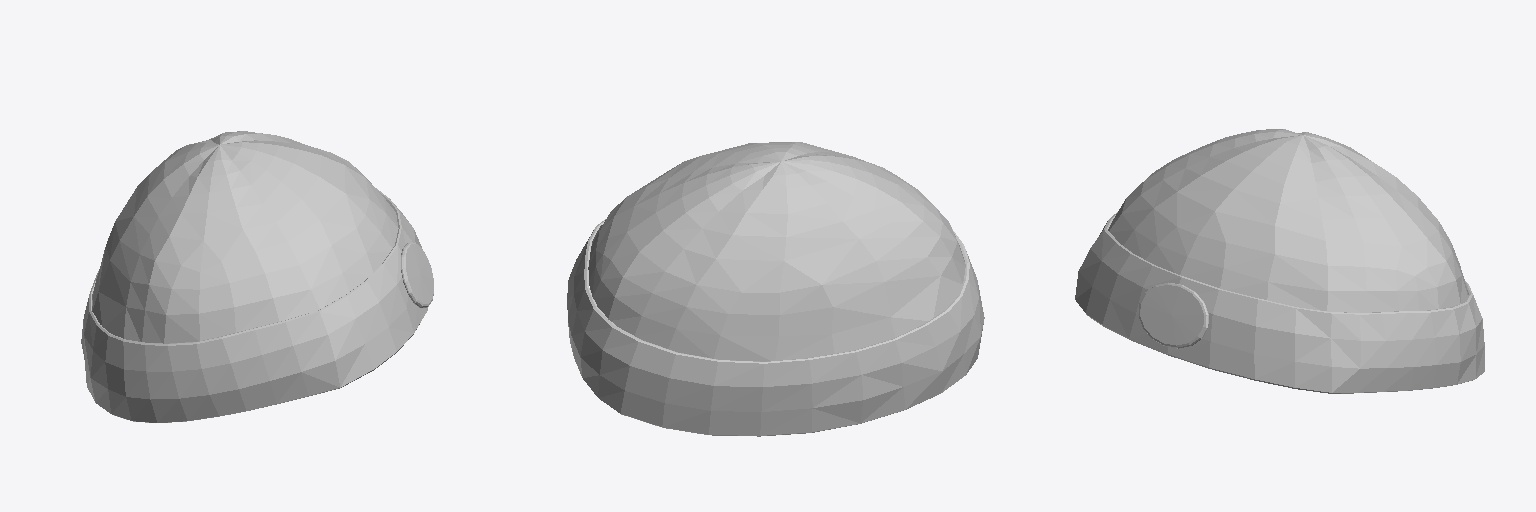
File: Gorro.obj
3 views of the same model, side by side, from view 1: azimuth 30°, elevation 25°; view 2: azimuth 150°, elevation 25°; view 3: azimuth 270°, elevation 25° (orthographic).
Visible parts, largest first — view 1: Gorro; view 2: Gorro; view 3: Gorro.
Part boxes in pixels (x1,y1,x2,y2): Gorro: (81, 131, 433, 422); Gorro: (567, 142, 984, 436); Gorro: (1075, 129, 1484, 393).
Size of the model in its own units: 3.2 by 1.93 by 3.3.